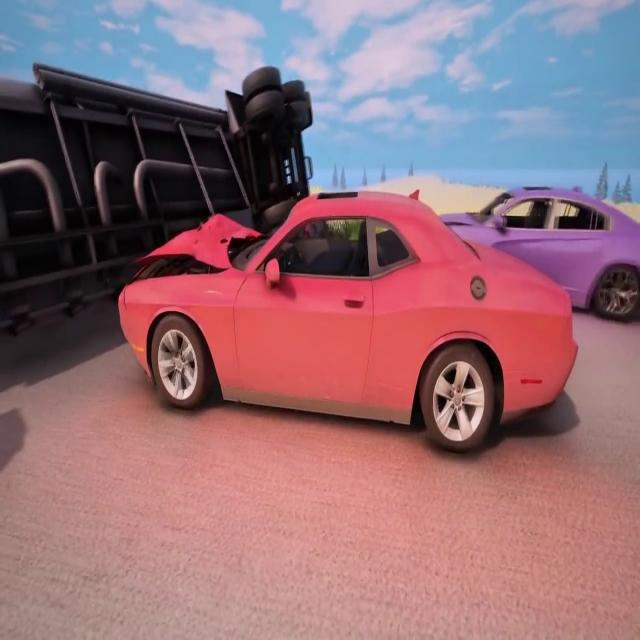accident: (0, 57, 578, 465)
